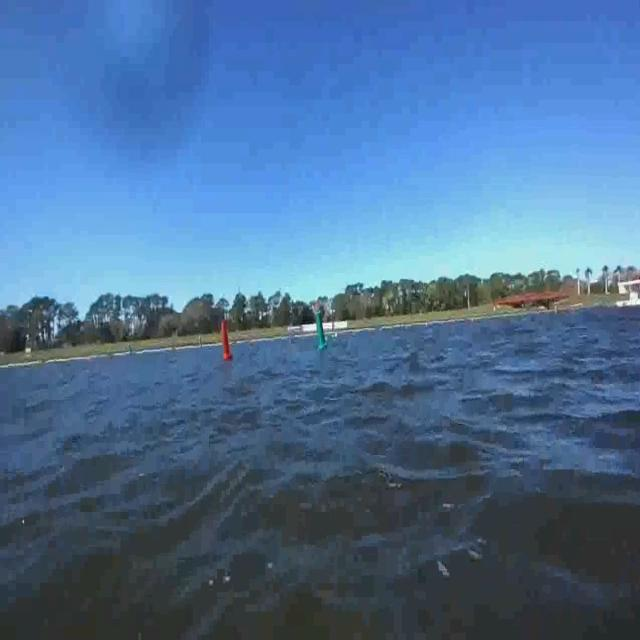green-column-buoy: (312, 292, 334, 356)
red-column-buoy: (213, 310, 237, 367)
